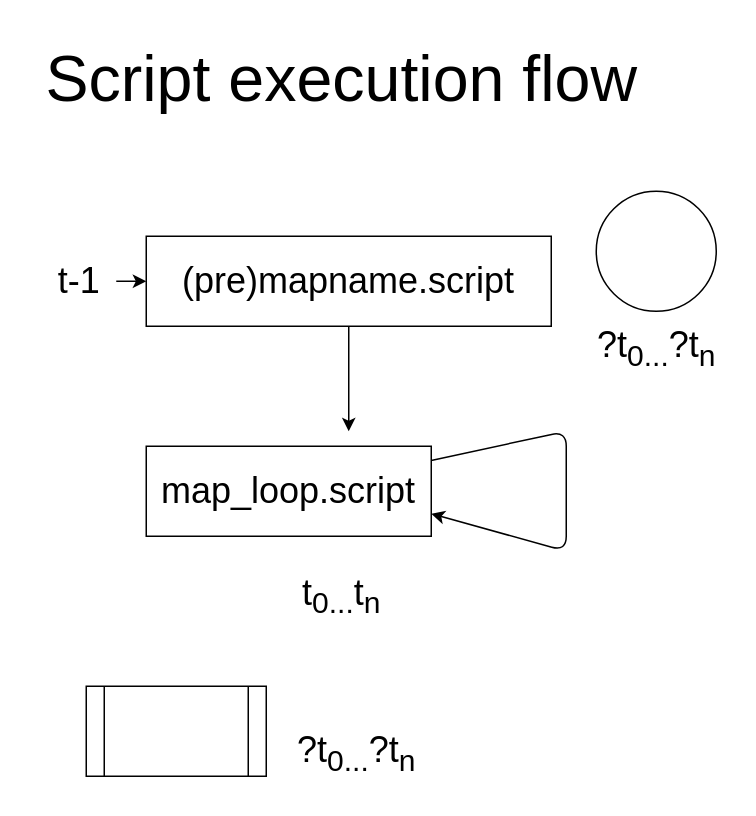
This 756x816 diagram has some shape labels left out. The shapes that lost their labels are listed below. From the top down, each one's centre as x and y in pixels, then its label:
(655,250): decorations
(175,730): FSMs
